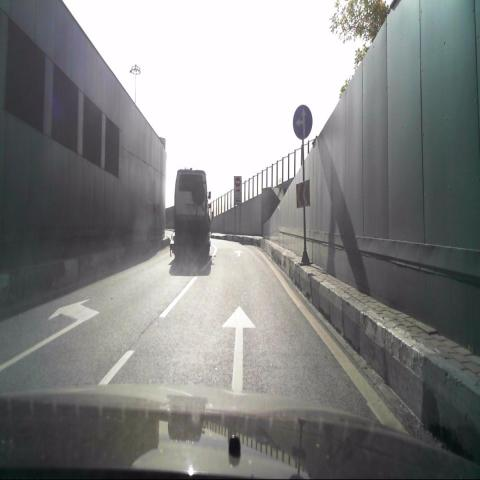4_1_5: (293, 103, 313, 141)
